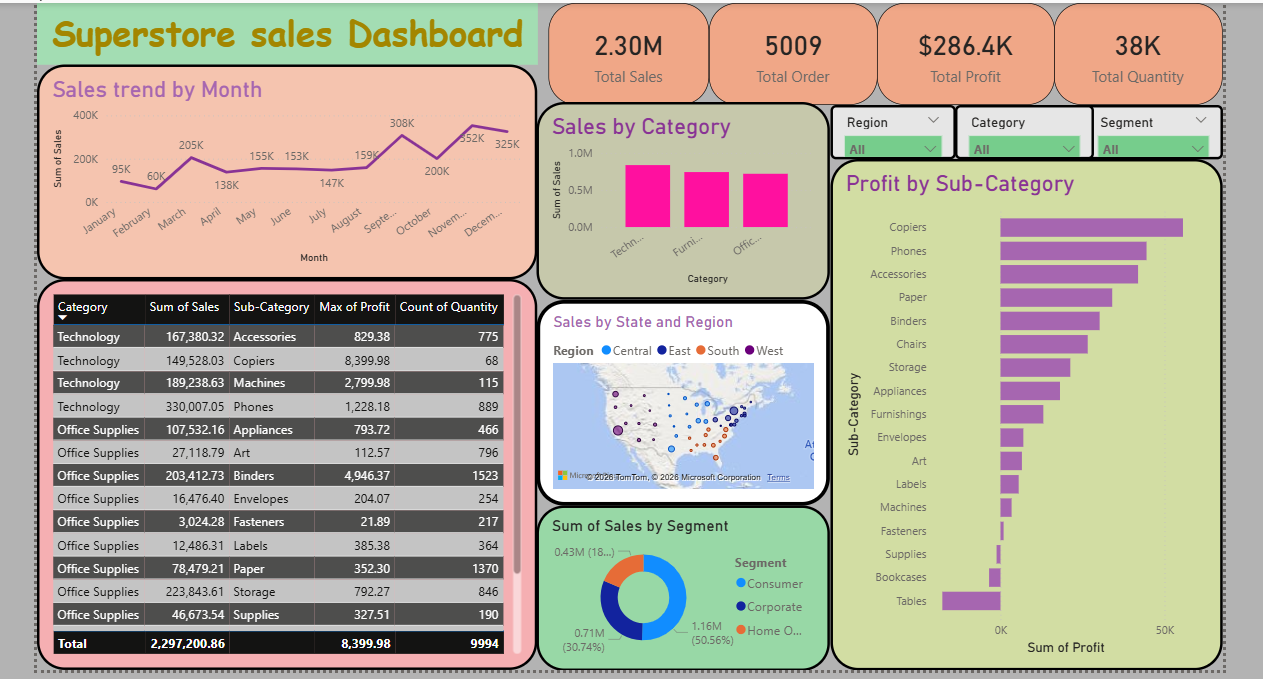

Layout of this report page (visuals, bound fields, positions):
{"tool":"powerbi","page":{"name":"Page 1","canvas":[1280,720],"ordinal":0},"visuals":[{"type":"textbox","box":[0,0,540.8,66.4],"z":0},{"type":"card","fields":{"Values":["'Sample - Superstore Dataset$'.Total Sales"]},"box":[552.2,0,173.3,110.1],"z":1000},{"type":"card","fields":{"Values":["'Sample - Superstore Dataset$'.Total Quantity"]},"box":[1098.3,0,181.7,110],"z":2000},{"type":"card","fields":{"Values":["'Sample - Superstore Dataset$'.Total Order"]},"box":[725,0,181.7,110],"z":3000},{"type":"card","fields":{"Values":["'Sample - Superstore Dataset$'.Total Profit"]},"box":[906.7,0,191.7,110],"z":4000},{"type":"lineChart","title":" Sales trend by Month","fields":{"Y":["Sum('Sample - Superstore Dataset$'.Sales)"],"Category":["'Sample - Superstore Dataset$'.Order Date.Variation.Date Hierarchy.Month"]},"box":[0,66.7,540,231.7],"z":5000},{"type":"clusteredColumnChart","title":"Sales by Category","fields":{"Y":["Sum('Sample - Superstore Dataset$'.Sales)"],"Category":["'Sample - Superstore Dataset$'.Category"]},"box":[540,106.7,316.7,213.3],"z":6000},{"type":"barChart","title":"Profit by Sub-Category","fields":{"Y":["Sum('Sample - Superstore Dataset$'.Profit)"],"Category":["'Sample - Superstore Dataset$'.Sub-Category"]},"box":[856.7,168.3,423.3,551.7],"z":7000},{"type":"map","title":"Sales by State and Region","fields":{"Series":["'Sample - Superstore Dataset$'.Region"],"Category":["'Sample - Superstore Dataset$'.State"],"Size":["Sum('Sample - Superstore Dataset$'.Sales)"]},"box":[540,320,316.7,221.7],"z":8000},{"type":"donutChart","fields":{"Category":["'Sample - Superstore Dataset$'.Segment"],"Y":["Sum('Sample - Superstore Dataset$'.Sales)"]},"box":[540,541.7,316.7,178.3],"z":9000},{"type":"tableEx","fields":{"Values":["'Sample - Superstore Dataset$'.Category","Sum('Sample - Superstore Dataset$'.Sales)","'Sample - Superstore Dataset$'.Sub-Category","Max('Sample - Superstore Dataset$'.Profit)","CountNonNull('Sample - Superstore Dataset$'.Quantity)"]},"box":[0,298.3,540,421.7],"z":10000},{"type":"slicer","fields":{"Values":["'Sample - Superstore Dataset$'.Segment"]},"box":[1130,110,150,58.3],"z":10001},{"type":"slicer","fields":{"Values":["'Sample - Superstore Dataset$'.Category"]},"box":[991.7,110,150,58.3],"z":10002},{"type":"slicer","fields":{"Values":["'Sample - Superstore Dataset$'.Region"]},"box":[856.7,110,135,58.3],"z":10003}]}

Visuals, with their boxes in screenshot pixels (x1, y1, x2, y2):
textbox: <bbox>33, 0, 535, 62</bbox>
card - 'Sample - Superstore Dataset$'.Total Sales: <bbox>545, 0, 706, 102</bbox>
card - 'Sample - Superstore Dataset$'.Total Quantity: <bbox>1052, 0, 1221, 102</bbox>
card - 'Sample - Superstore Dataset$'.Total Order: <bbox>706, 0, 874, 102</bbox>
card - 'Sample - Superstore Dataset$'.Total Profit: <bbox>874, 0, 1052, 102</bbox>
" Sales trend by Month" lineChart: <bbox>33, 62, 534, 277</bbox>
"Sales by Category" clusteredColumnChart: <bbox>534, 99, 828, 297</bbox>
"Profit by Sub-Category" barChart: <bbox>828, 156, 1221, 668</bbox>
"Sales by State and Region" map: <bbox>534, 297, 828, 503</bbox>
donutChart - 'Sample - Superstore Dataset$'.Segment x Sum('Sample - Superstore Dataset$'.Sales): <bbox>534, 503, 828, 668</bbox>
tableEx - 'Sample - Superstore Dataset$'.Category x Sum('Sample - Superstore Dataset$'.Sales): <bbox>33, 277, 534, 668</bbox>
slicer - 'Sample - Superstore Dataset$'.Segment: <bbox>1082, 102, 1221, 156</bbox>
slicer - 'Sample - Superstore Dataset$'.Category: <bbox>953, 102, 1092, 156</bbox>
slicer - 'Sample - Superstore Dataset$'.Region: <bbox>828, 102, 953, 156</bbox>
